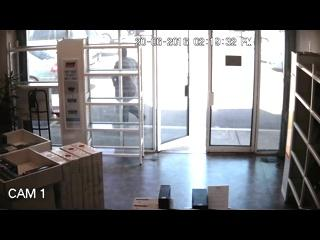shoplifting: (112, 48, 141, 128)
